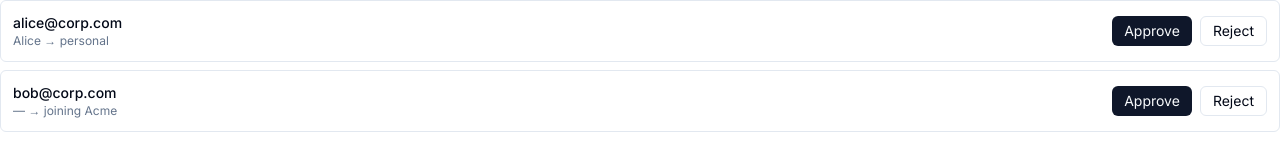
Test case: PendingTab — approve and reject › disables BOTH buttons on the row being acted on, and only that row
The image size is (1280, 160).
Expected: the text "alice@corp.com" is shown, [13, 13, 122, 33]
Step 1. Click the button "Approve" in the row of "alice@corp.com" → (1152, 31), box [1112, 16, 1192, 46]
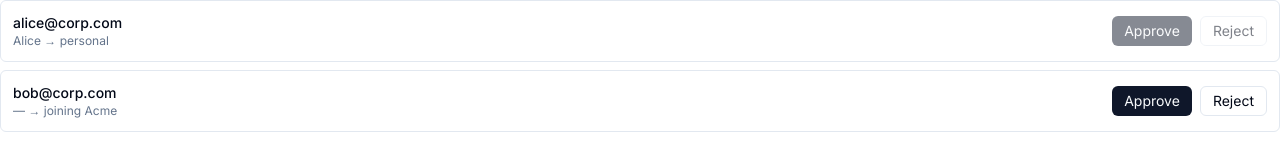
Expected: the button "Approve" in the row of "bob@corp.com" is enabled, [1112, 86, 1192, 116]
Expected: the button "Approve" in the row of "alice@corp.com" is disabled, [1112, 16, 1192, 46]
Expected: the button "Reject" in the row of "alice@corp.com" is disabled, [1200, 16, 1267, 46]
